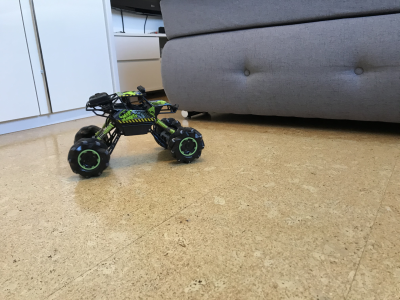remote control car: (63, 81, 207, 179)
